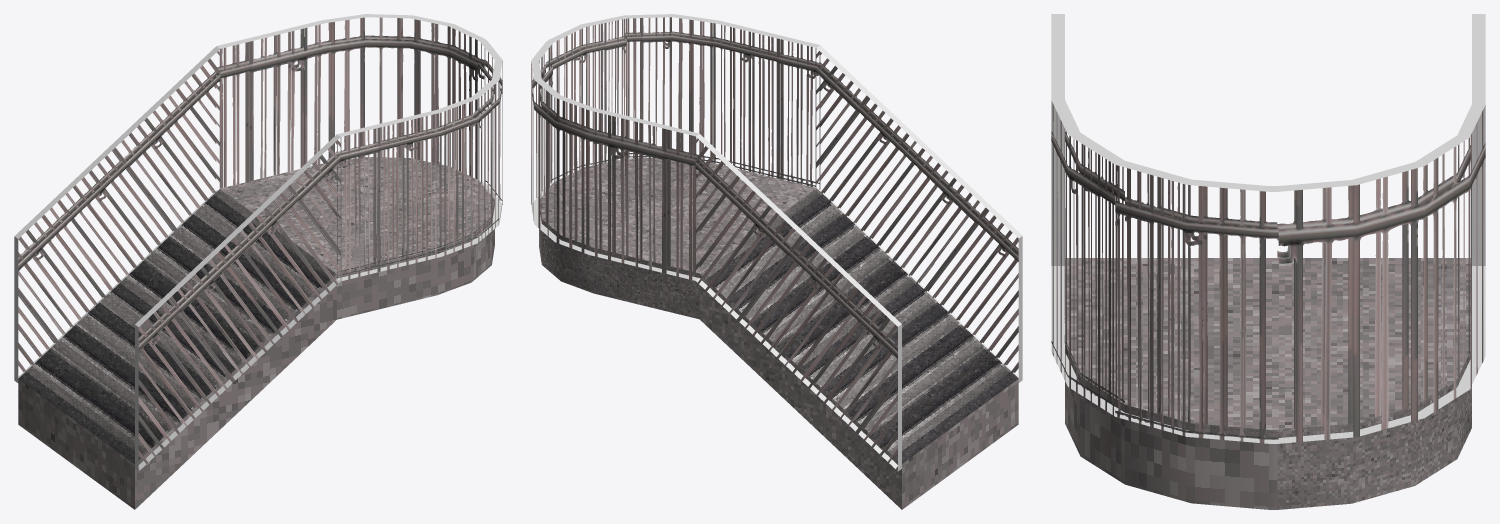
Rendered from raput batch2_RAPUT_VAR2.fbx.
3 renders of one model, left to right at view 1: azimuth 30°, elevation 25°; view 2: azimuth 150°, elevation 25°; view 3: azimuth 270°, elevation 25°, orthographic. The views are drawn at different scales.
Visible parts, largest first — view 1: raputkaide.002, raputpohja VAR2; view 2: raputkaide.002, raputpohja VAR2; view 3: raputpohja VAR2, raputkaide.002.
Part boxes in pixels (x1,y1,x2,y2): raputkaide.002: (14, 14, 502, 471); raputpohja VAR2: (18, 157, 494, 509); raputkaide.002: (531, 14, 1022, 471); raputpohja VAR2: (539, 157, 1018, 509); raputpohja VAR2: (1065, 258, 1471, 509); raputkaide.002: (1051, 14, 1485, 443).
Size of the model in its own units: 305 by 232 by 160.
